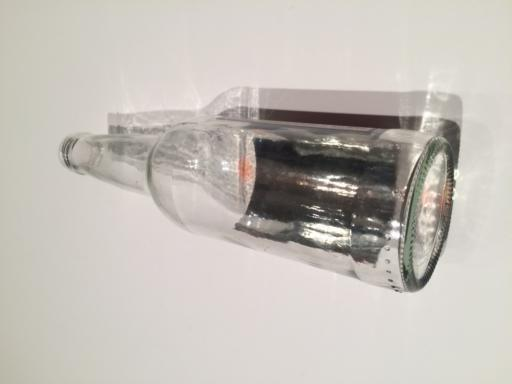botolkaca: (61, 121, 451, 294)
